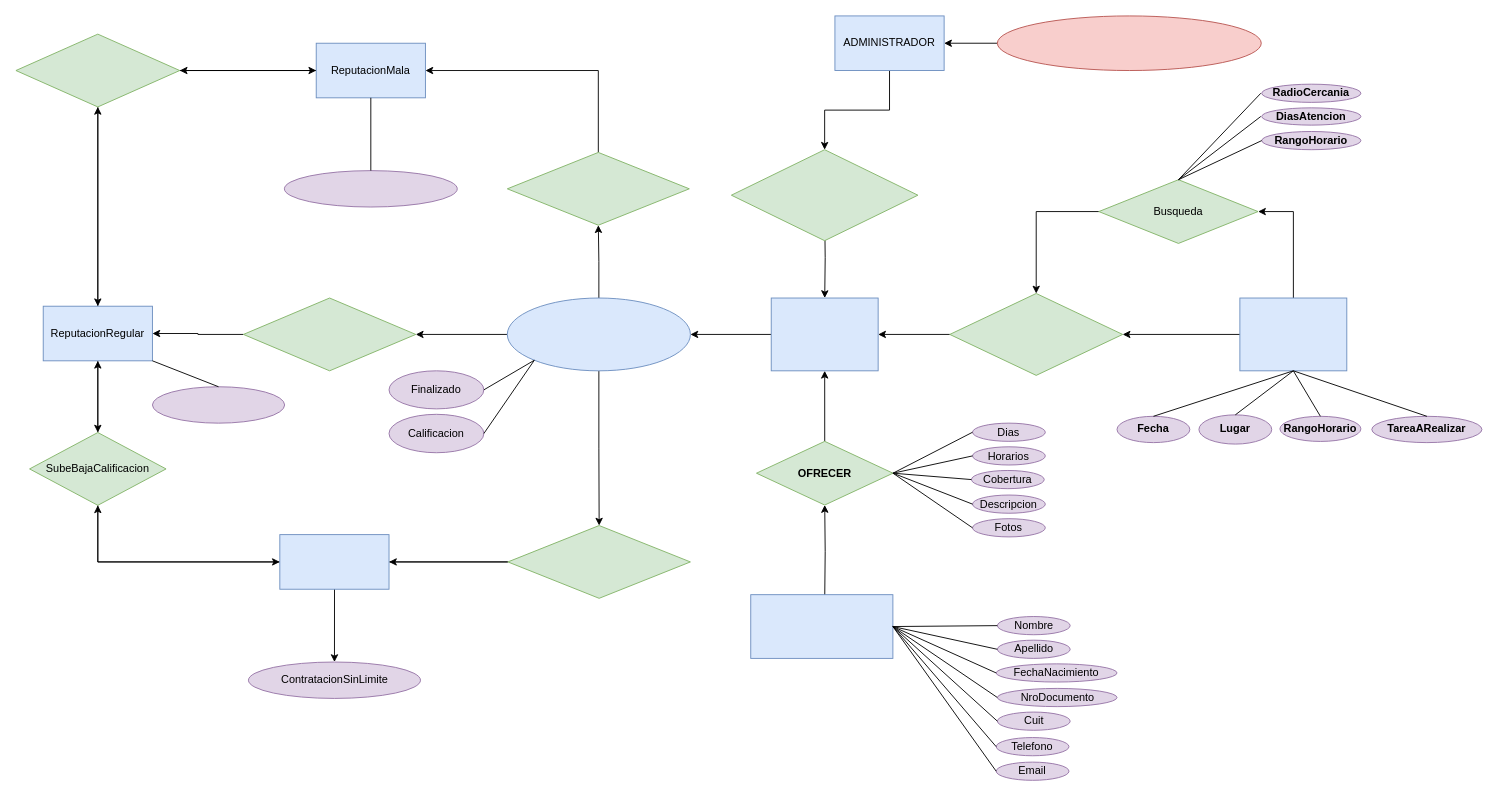
Image size: 1498x796. Some labels were removed from this diagram. The centre of each missing label's shape, as x and y in pixels:
"ALTAS_BAJAS SERVICIO - Lista de tareas" goes at (824,195).
"CalifacacionBuena" goes at (598,561).
"CalificacionMala" goes at (597,188).
"CalificacionRegular" goes at (329,334).
"CONSUMIDOR" goes at (1293,334).
"ContratacionLimitada1" goes at (370,188).
"ContratacionLimitada4" goes at (218,404).
"CONTRATO" goes at (1036,334).
"PRESTADOR" goes at (821,626).
"Proservices" goes at (1128,43).
"ReputacionBuena" goes at (334,561).
"RESULTADO_TRABAJO -Finalizado -Calificacion" goes at (598,334).
"SERVICIO" goes at (824,334).
"SubeBajaCaliifacion" goes at (97,70).
